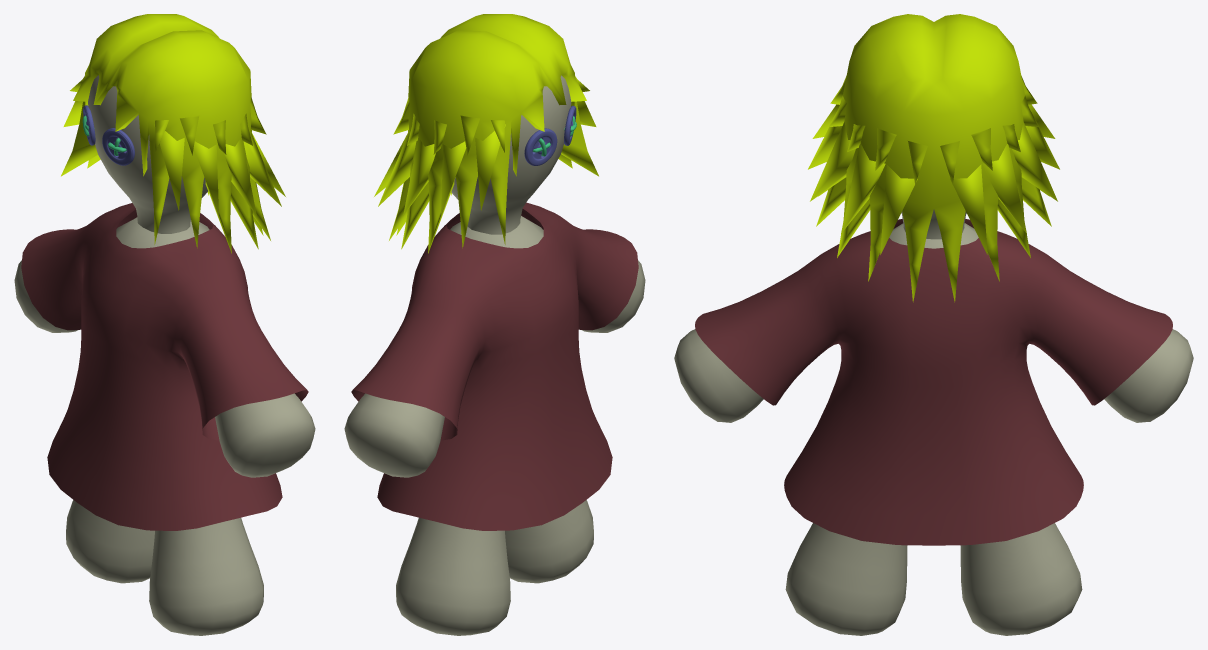
Rendered from GirlDoll.fbx.
3 renders of one model, left to right at view 1: azimuth 30°, elevation 25°; view 2: azimuth 150°, elevation 25°; view 3: azimuth 270°, elevation 25°, orthographic. The views are drawn at different scales.
Parts seen in each view (by area): view 1: DollG; view 2: DollG; view 3: DollG.
Part boxes in pixels (box(x1,y1,x2,y2)): DollG: box(14, 14, 315, 635); DollG: box(344, 14, 645, 635); DollG: box(674, 14, 1193, 635).
Size of the model in its own units: 21.52 by 64.54 by 50.24.
